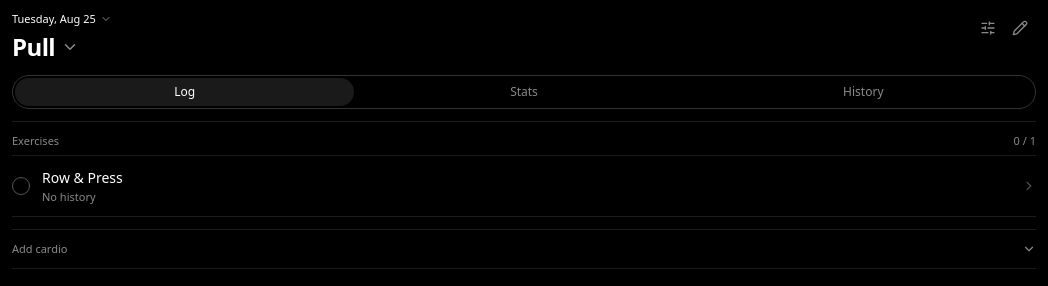
Scenario: Gym's header › offers Back to today only on another date, and it returns to today
Type "2026-05-20" into the date field named "change date".
click(62, 19); type("2026-05-20")  # box x1=12 y1=12 x2=112 y2=25
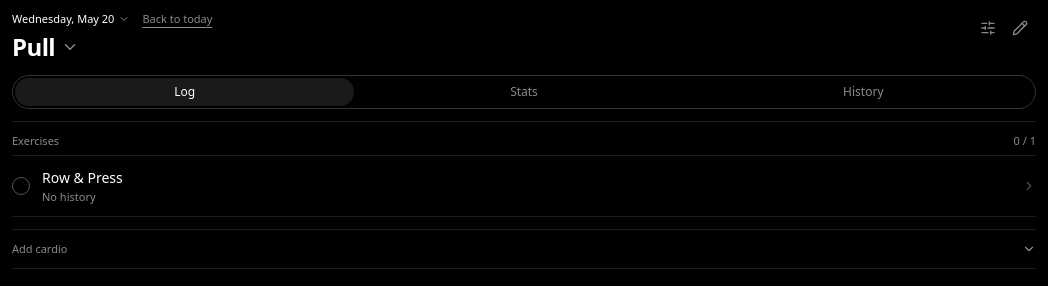
Click the button "Back to today".
click(177, 19)  # box x1=142 y1=12 x2=212 y2=25
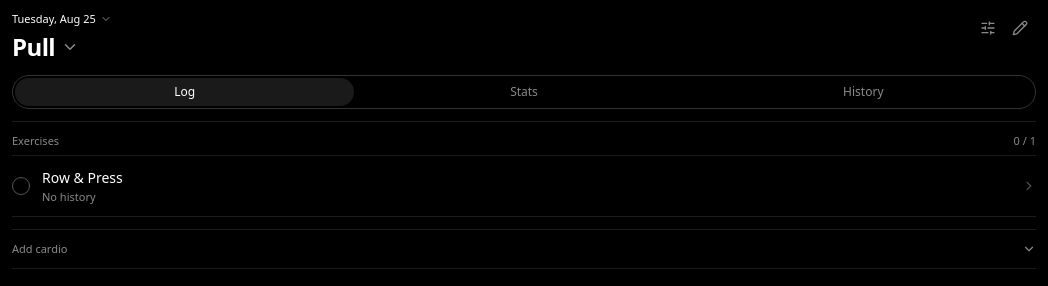
Check: the element named "change date" holds "2026-08-25", box x1=12 y1=12 x2=112 y2=25
Check: the button "Back to today" is gone
